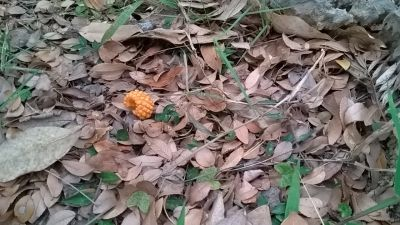eggs: (124, 89, 153, 118)
